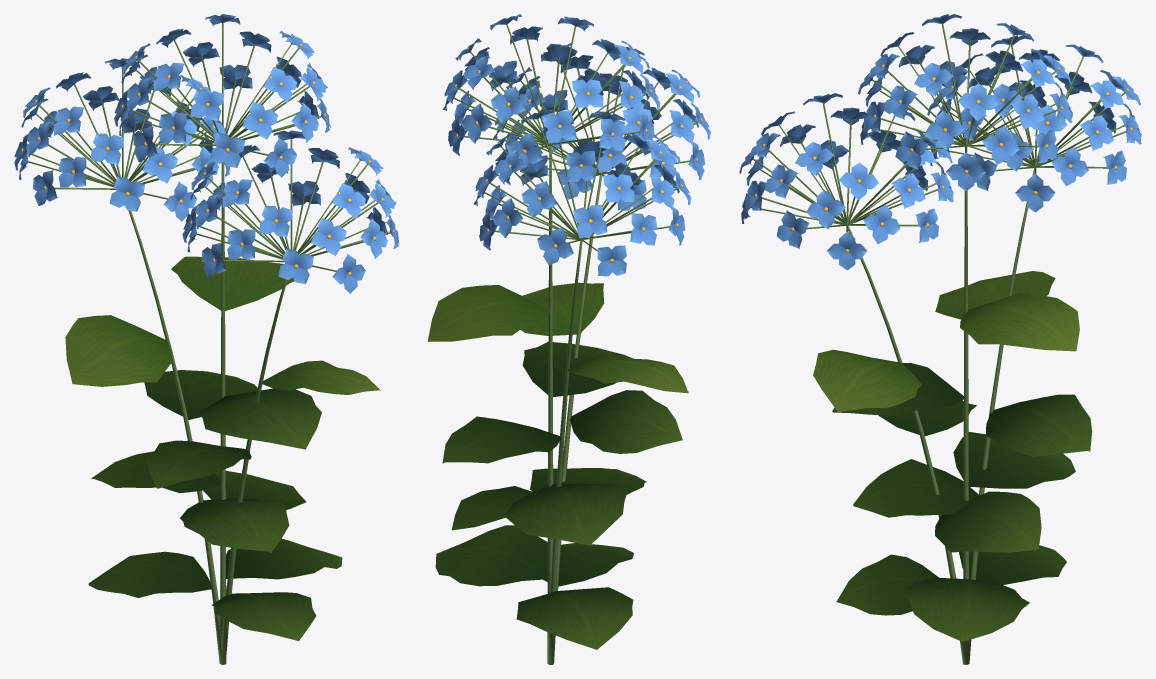
File: hydrangea-10-lod.glb
3 views of the same model, side by side, from view 1: azimuth 30°, elevation 25°; view 2: azimuth 150°, elevation 25°; view 3: azimuth 270°, elevation 25° (orthographic).
Parts seen in each view (by area): view 1: hydrangea_stage_10_hydrangea_petal.019, hydrangea_stage_10_leaf_veins.019, hydrangea_stage_10_stem_fibres.019, hydrangea_stage_10_young_leaf.019, hydrangea_stage_10_pollen_granules.019; view 2: hydrangea_stage_10_leaf_veins.019, hydrangea_stage_10_hydrangea_petal.019, hydrangea_stage_10_stem_fibres.019, hydrangea_stage_10_young_leaf.019, hydrangea_stage_10_pollen_granules.019; view 3: hydrangea_stage_10_leaf_veins.019, hydrangea_stage_10_hydrangea_petal.019, hydrangea_stage_10_young_leaf.019, hydrangea_stage_10_stem_fibres.019, hydrangea_stage_10_pollen_granules.019.
Part boxes in pixels (box(x1,y1,x2,y2)): hydrangea_stage_10_hydrangea_petal.019: box(14, 14, 399, 293); hydrangea_stage_10_leaf_veins.019: box(88, 370, 342, 641); hydrangea_stage_10_stem_fibres.019: box(28, 23, 389, 664); hydrangea_stage_10_young_leaf.019: box(65, 256, 380, 394); hydrangea_stage_10_pollen_granules.019: box(20, 43, 394, 276); hydrangea_stage_10_leaf_veins.019: box(435, 341, 682, 649); hydrangea_stage_10_hydrangea_petal.019: box(442, 14, 710, 276); hydrangea_stage_10_stem_fibres.019: box(454, 24, 698, 664); hydrangea_stage_10_young_leaf.019: box(428, 282, 688, 393); hydrangea_stage_10_pollen_granules.019: box(454, 47, 702, 263); hydrangea_stage_10_leaf_veins.019: box(832, 362, 1092, 642); hydrangea_stage_10_hydrangea_petal.019: box(739, 14, 1141, 270); hydrangea_stage_10_young_leaf.019: box(813, 271, 1079, 412); hydrangea_stage_10_stem_fibres.019: box(751, 23, 1125, 664); hydrangea_stage_10_pollen_granules.019: box(748, 64, 1132, 253).
Bounding box in the file's own units: 0.3726 × 0.8071 × 0.4716.
Materials: 5 (3 with a texture image).
